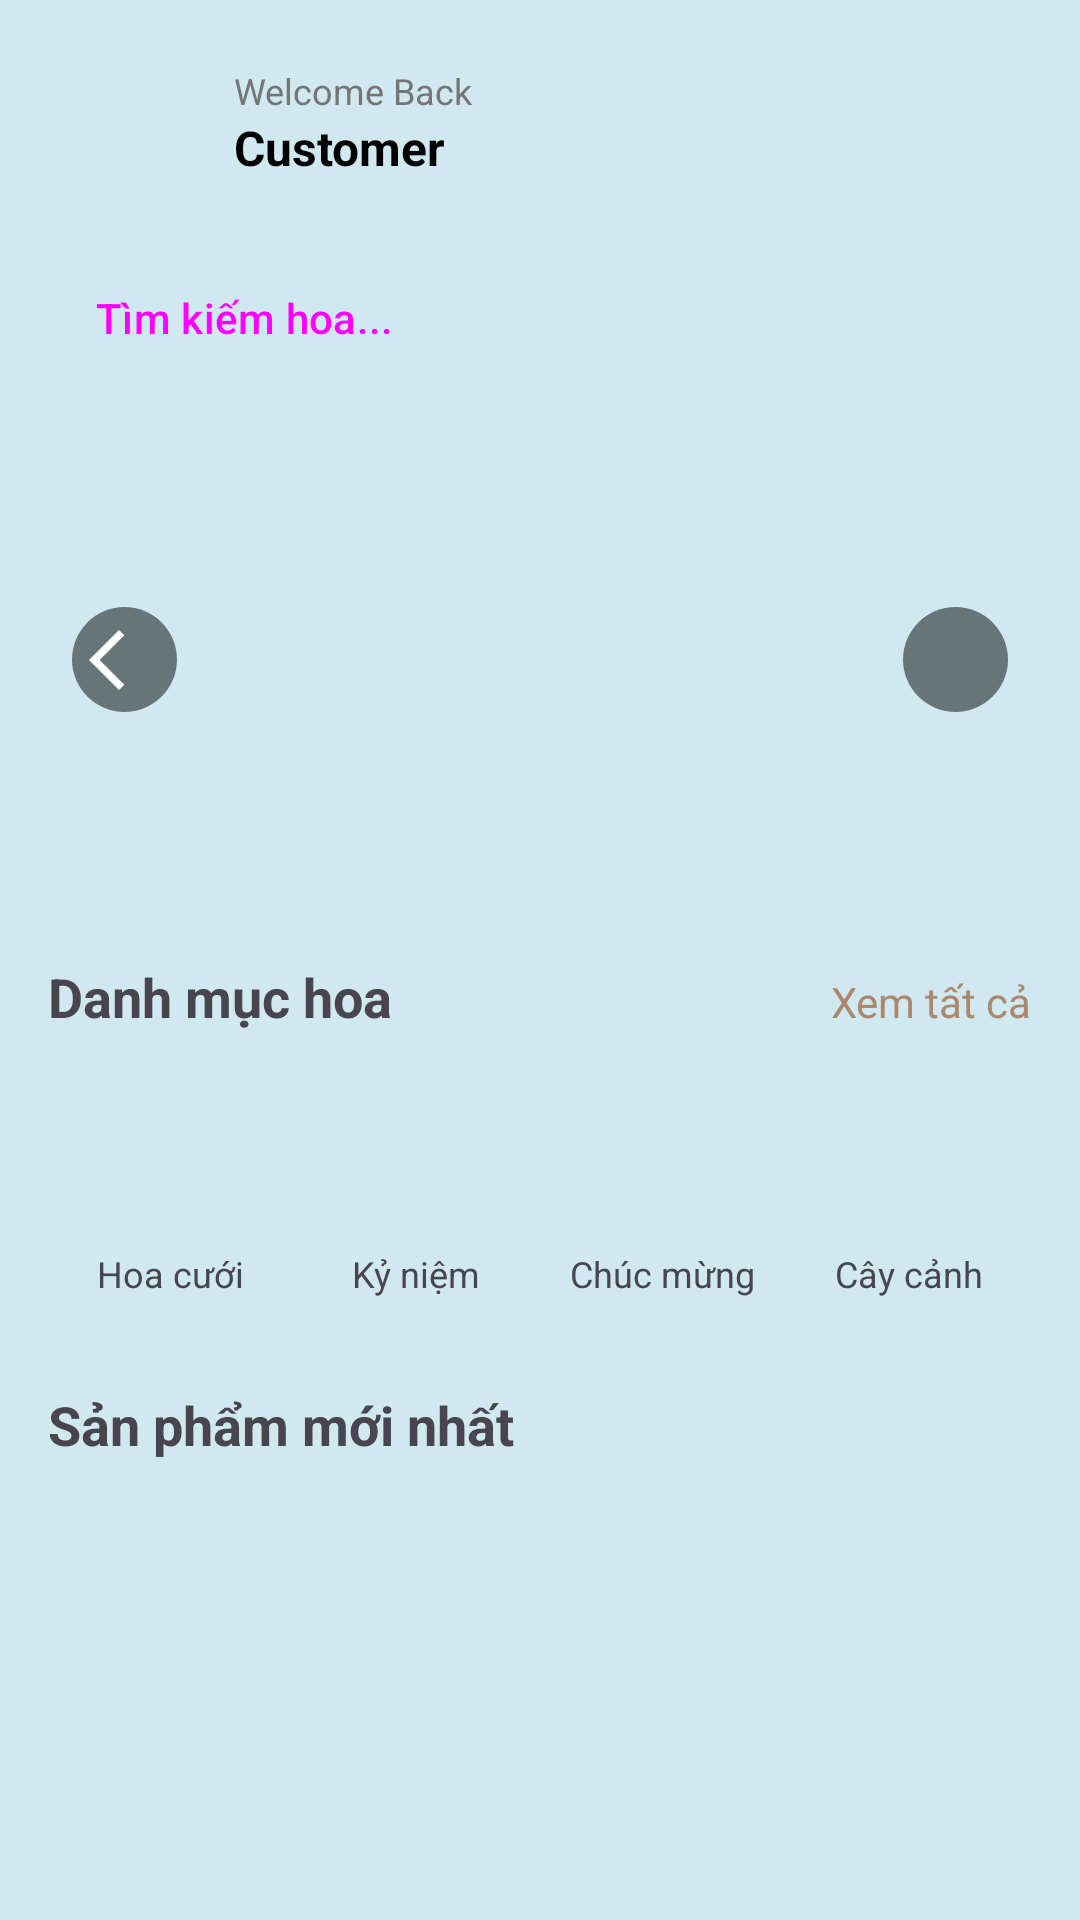

Named icons in this screenshot (1080 × 1920) and their centers, [x,y]:
Previous: [124,659]
